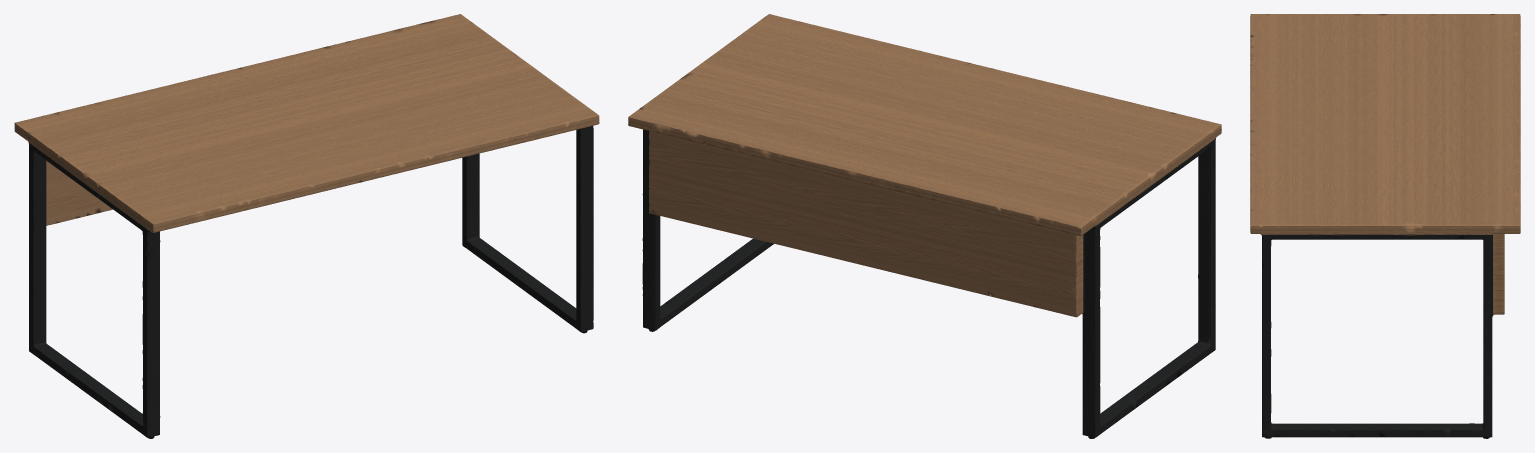
File: desk_simple.obj
3 renders of one model, left to right at view 1: azimuth 30°, elevation 25°; view 2: azimuth 150°, elevation 25°; view 3: azimuth 270°, elevation 25°, orthographic. The views are drawn at different scales.
Parts seen in each view (by area): view 1: desk_simple; view 2: desk_simple; view 3: desk_simple.
Part boxes in pixels (x1,y1,x2,y2): desk_simple: (14, 14, 599, 438); desk_simple: (628, 14, 1221, 438); desk_simple: (1250, 14, 1520, 438).
Size of the model in its own units: 1.58 by 0.75 by 0.8514.
Materials: 1 (1 with a texture image).
